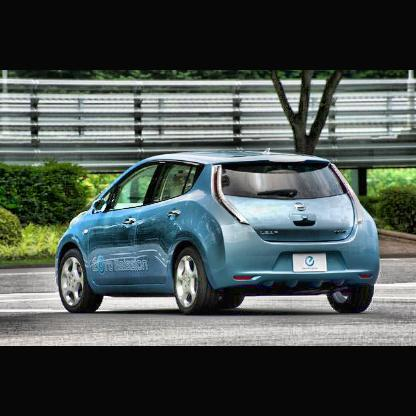Nissan Leaf Hatchback 2012: (55, 152, 381, 317)
